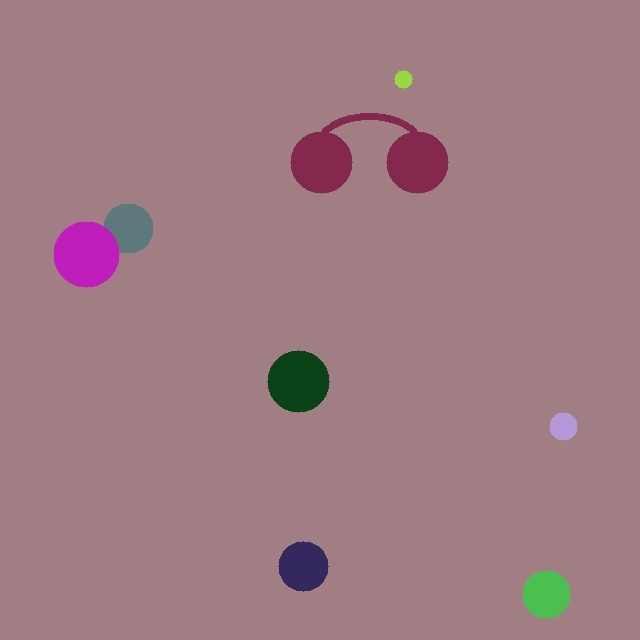over_ear: (286, 99, 452, 197)
